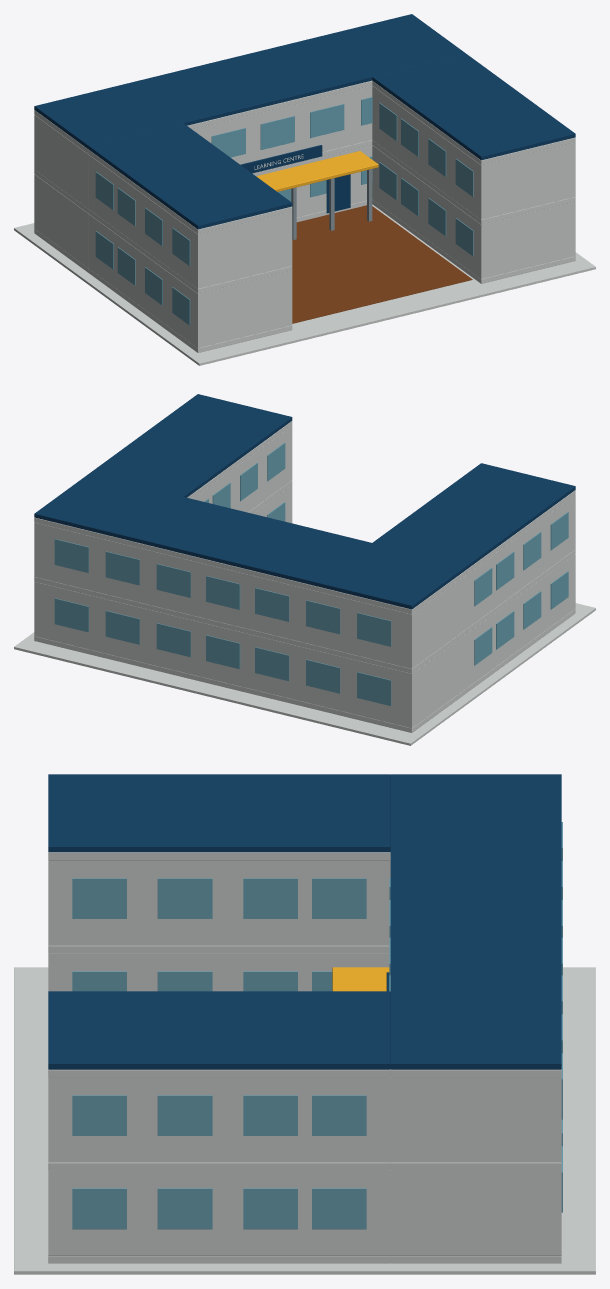
File: edited.glb
3 views of the same model, one above another, from view 1: azimuth 30°, elevation 25°; view 2: azimuth 150°, elevation 25°; view 3: azimuth 270°, elevation 25° (orthographic). The views are drawn at different scales.
Parts seen in each view (by area): view 1: WING_Facades.002, WING_Facades, ROOF_Parapet, WING_Facades.001, COURTYARD, ROOF_Parapet.001, ROOF_Parapet.002, SITE_Base, ARCADE_Canopy, WING_Slab.002, WING_Slab.005, WING_Slab.008 (+8 smaller); view 2: WING_Facades.001, ROOF_Parapet, WING_Facades.002, ROOF_Parapet.001, ROOF_Parapet.002, SITE_Base, WING_Facades, WING_Slab.002, WING_Slab, WING_Slab.001, WING_Slab.005, WING_Slab.003 (+2 smaller); view 3: WING_Facades, ROOF_Parapet, WING_Facades.002, WING_Facades.001, SITE_Base, ROOF_Parapet.001, ROOF_Parapet.002, WING_Slab.007, WING_Slab.008, WING_Slab.005, WING_Slab.004, WING_Slab.006 (+4 smaller).
Part boxes in pixels (bbox=[...]): WING_Facades.002: bbox=[89, 155, 292, 348]; WING_Facades: bbox=[372, 86, 575, 278]; ROOF_Parapet: bbox=[34, 14, 465, 149]; WING_Facades.001: bbox=[34, 85, 372, 268]; COURTYARD: bbox=[292, 205, 472, 323]; ROOF_Parapet.001: bbox=[89, 123, 292, 229]; ROOF_Parapet.002: bbox=[372, 54, 575, 160]; SITE_Base: bbox=[14, 204, 595, 365]; ARCADE_Canopy: bbox=[256, 151, 378, 191]; WING_Slab.002: bbox=[34, 80, 372, 154]; WING_Slab.005: bbox=[89, 150, 292, 234]; WING_Slab.008: bbox=[372, 81, 575, 165]; WING_Facades.001: bbox=[34, 522, 466, 728]; ROOF_Parapet: bbox=[34, 474, 466, 609]; WING_Facades.002: bbox=[466, 495, 575, 687]; ROOF_Parapet.001: bbox=[372, 463, 575, 568]; ROOF_Parapet.002: bbox=[89, 394, 292, 497]; SITE_Base: bbox=[14, 603, 595, 745]; WING_Facades: bbox=[192, 426, 292, 523]; WING_Slab.002: bbox=[34, 517, 466, 614]; WING_Slab: bbox=[34, 636, 466, 732]; WING_Slab.001: bbox=[34, 577, 466, 673]; WING_Slab.005: bbox=[466, 490, 575, 574]; WING_Slab.003: bbox=[466, 609, 575, 692]; WING_Facades: bbox=[48, 1077, 390, 1255]; ROOF_Parapet: bbox=[390, 774, 561, 1069]; WING_Facades.002: bbox=[48, 860, 390, 991]; WING_Facades.001: bbox=[389, 822, 562, 1255]; SITE_Base: bbox=[14, 967, 595, 1274]; ROOF_Parapet.001: bbox=[48, 774, 390, 852]; ROOF_Parapet.002: bbox=[48, 991, 390, 1069]; WING_Slab.007: bbox=[48, 1162, 390, 1170]; WING_Slab.008: bbox=[48, 1069, 390, 1077]; WING_Slab.005: bbox=[48, 852, 390, 860]; WING_Slab.004: bbox=[48, 945, 389, 953]; WING_Slab.006: bbox=[48, 1256, 390, 1263].
Size of the model in its own units: 21 by 6.57 by 17.
